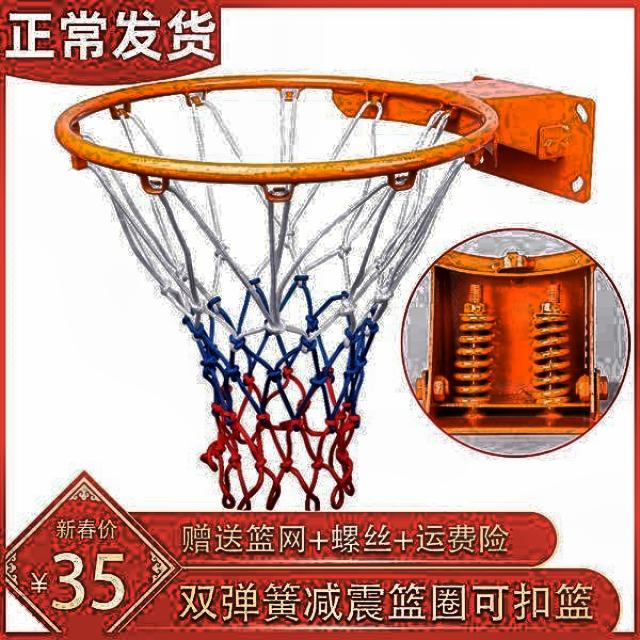rim: (58, 70, 464, 521)
